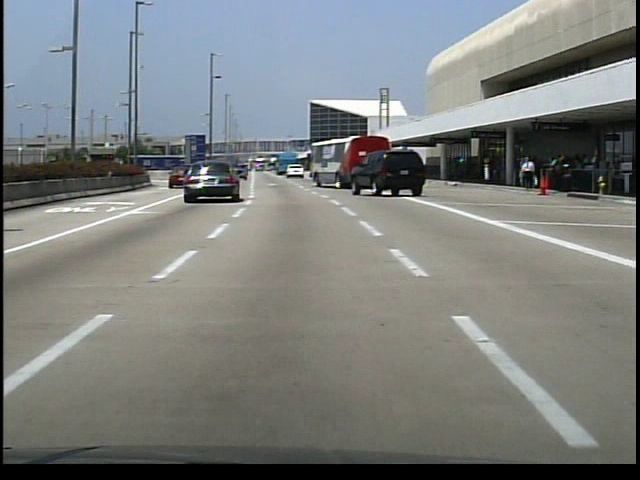person: (520, 155, 536, 192)
